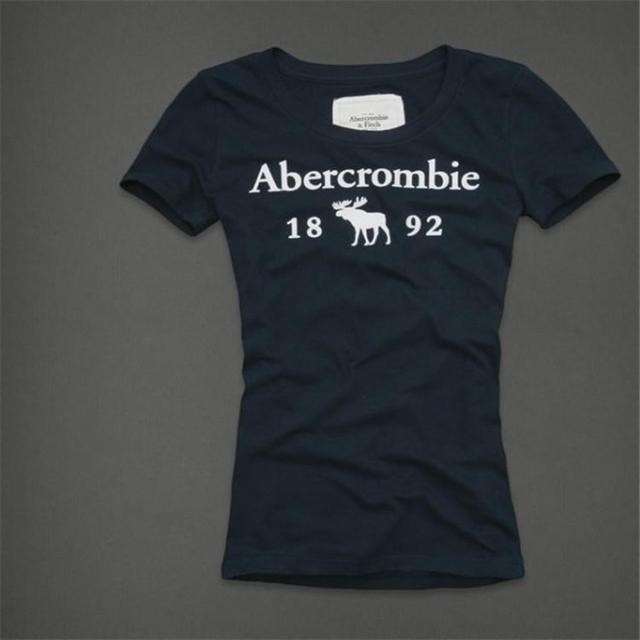Tops: (125, 46, 622, 591)
